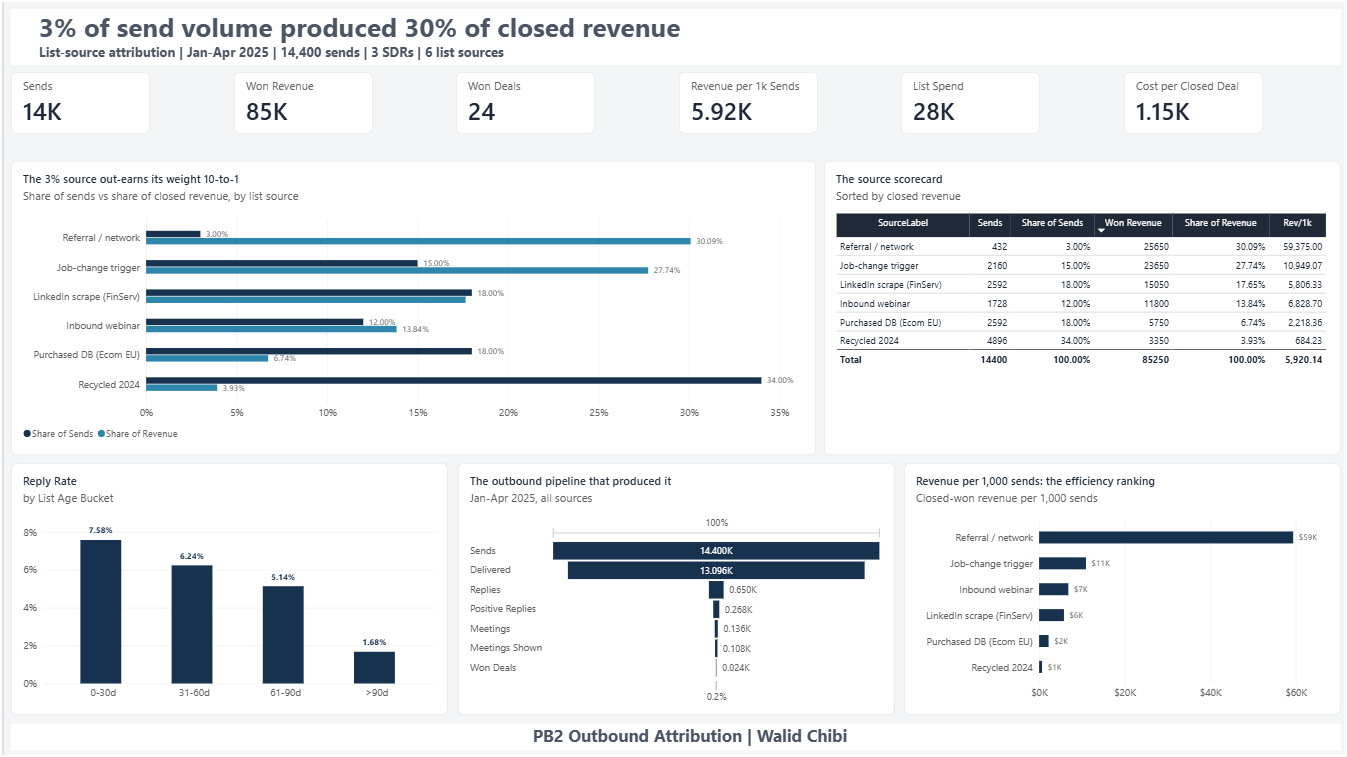

The dashboard page shown, as its layout file describes it:
{"tool":"powerbi","page":{"name":"Overview","canvas":[1920,1080],"ordinal":0},"visuals":[{"type":"textbox","box":[10,10,1900,80],"z":0},{"type":"cardVisual","title":"Sends","fields":{"Data":["dim_campaign.Sends"]},"box":[10,100,198,88],"z":1000},{"type":"cardVisual","title":"Sends","fields":{"Data":["dim_campaign.Won Revenue"]},"box":[328,100,198,88],"z":2000},{"type":"cardVisual","title":"Sends","fields":{"Data":["dim_campaign.Won Deals"]},"box":[646,100,198,88],"z":3000},{"type":"cardVisual","title":"Sends","fields":{"Data":["dim_campaign.Revenue per 1k Sends"]},"box":[964,100,198,88],"z":4000},{"type":"cardVisual","title":"Sends","fields":{"Data":["dim_campaign.List Spend"]},"box":[1282,100,198,88],"z":5000},{"type":"cardVisual","title":"Sends","fields":{"Data":["dim_campaign.Cost per Closed Deal"]},"box":[1600,100,198,88],"z":6000},{"type":"clusteredBarChart","title":"The 3% source out-earns its weight 10-to-1","fields":{"Category":["dim_list.SourceLabel"],"Y":["dim_campaign.Share of Sends","dim_campaign.Share of Revenue"]},"box":[10,227,1150,420],"z":7000},{"type":"tableEx","title":"The source scorecard","fields":{"Values":["dim_list.SourceLabel","dim_campaign.Sends","dim_campaign.Share of Sends","dim_campaign.Won Revenue","dim_campaign.Share of Revenue","dim_campaign.Revenue per 1k Sends"]},"box":[1172,227,738,420],"z":8000},{"type":"clusteredColumnChart","fields":{"Category":["fact_sends.List Age Bucket"],"Y":["dim_campaign.Reply Rate"]},"box":[10,658.6,624.3,360],"z":9000},{"type":"funnel","title":"The outbound pipeline that produced it","fields":{"Y":["dim_campaign.Sends","dim_campaign.Delivered","dim_campaign.Replies","dim_campaign.Positive Replies","dim_campaign.Meetings","dim_campaign.Meetings Shown","dim_campaign.Won Deals"]},"box":[648,659,624,360],"z":10000},{"type":"barChart","title":"Revenue per 1,000 sends: the efficiency ranking","fields":{"Category":["dim_list.SourceLabel"],"Y":["dim_campaign.Revenue per 1k Sends"]},"box":[1286,659,624,360],"z":11000},{"type":"textbox","box":[10,1032,1900,38],"z":11001}]}

Visuals, with their boxes in screenshot pixels (x1, y1, x2, y2), scaled from the page's 1920x1080 canvas onto the 1347x757 screenshot:
textbox: rect(7, 7, 1340, 63)
"Sends" cardVisual: rect(7, 70, 146, 132)
"Sends" cardVisual: rect(230, 70, 369, 132)
"Sends" cardVisual: rect(453, 70, 592, 132)
"Sends" cardVisual: rect(676, 70, 815, 132)
"Sends" cardVisual: rect(899, 70, 1038, 132)
"Sends" cardVisual: rect(1122, 70, 1261, 132)
"The 3% source out-earns its weight 10-to-1" clusteredBarChart: rect(7, 159, 814, 453)
"The source scorecard" tableEx: rect(822, 159, 1340, 453)
clusteredColumnChart - fact_sends.List Age Bucket x dim_campaign.Reply Rate: rect(7, 462, 445, 714)
"The outbound pipeline that produced it" funnel: rect(455, 462, 892, 714)
"Revenue per 1,000 sends: the efficiency ranking" barChart: rect(902, 462, 1340, 714)
textbox: rect(7, 723, 1340, 750)
